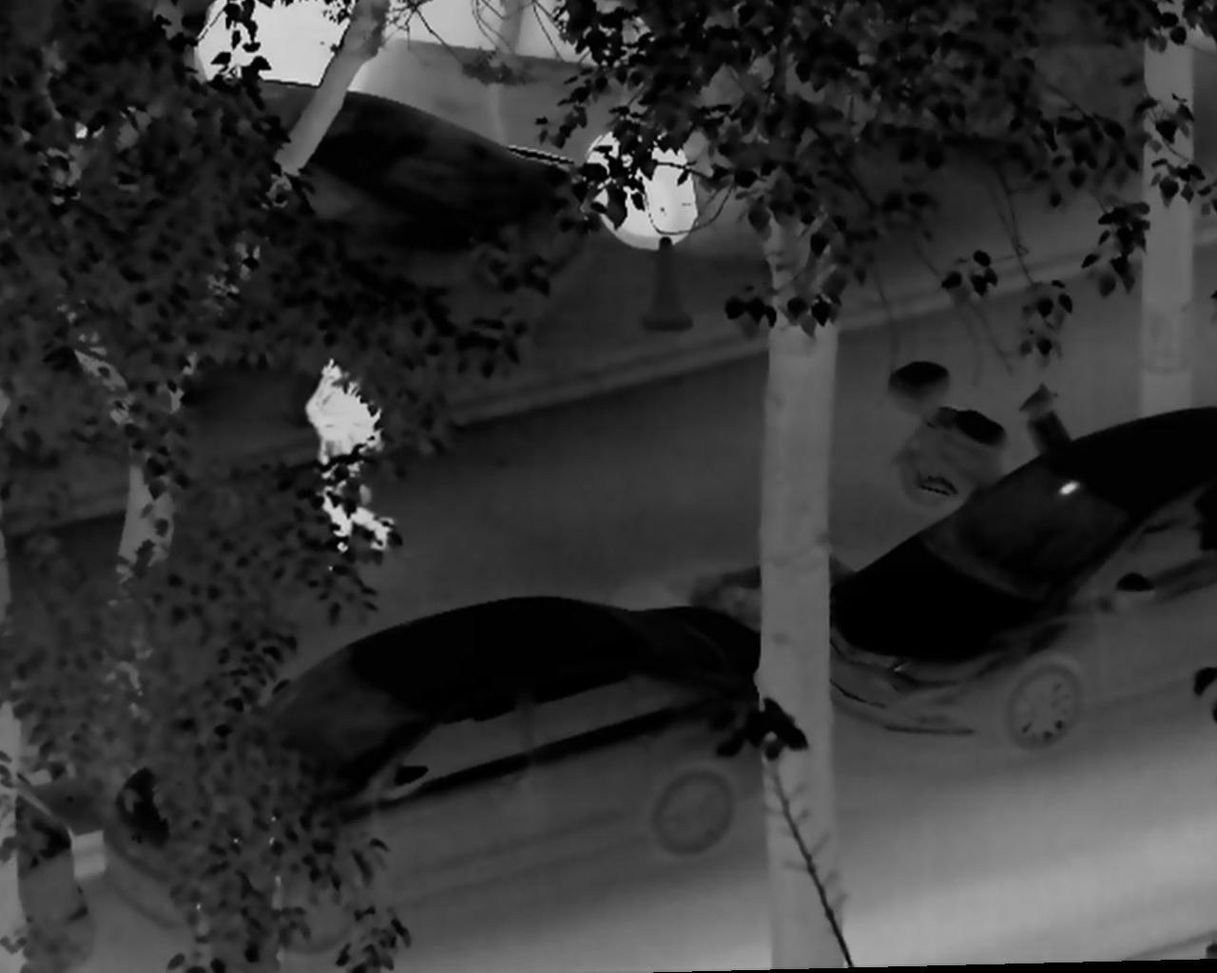person: (294, 353, 400, 579)
